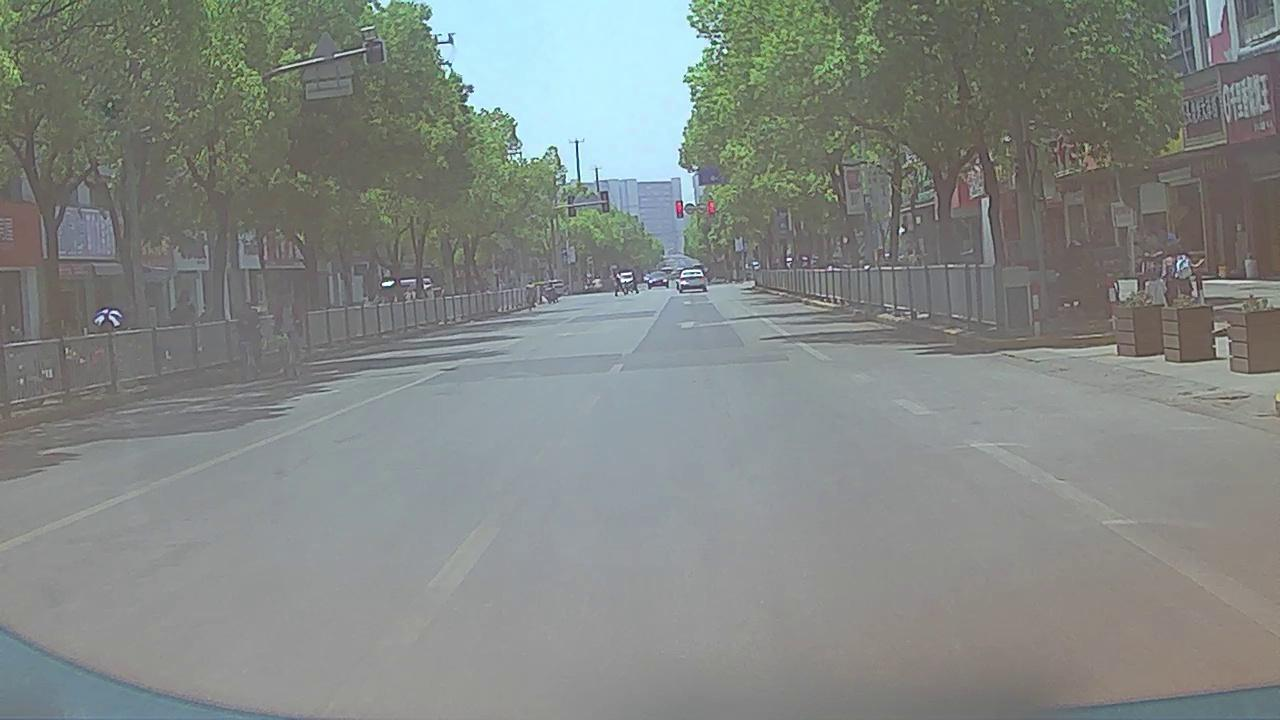traffic_light: (675, 201, 683, 218), (708, 201, 715, 217)
